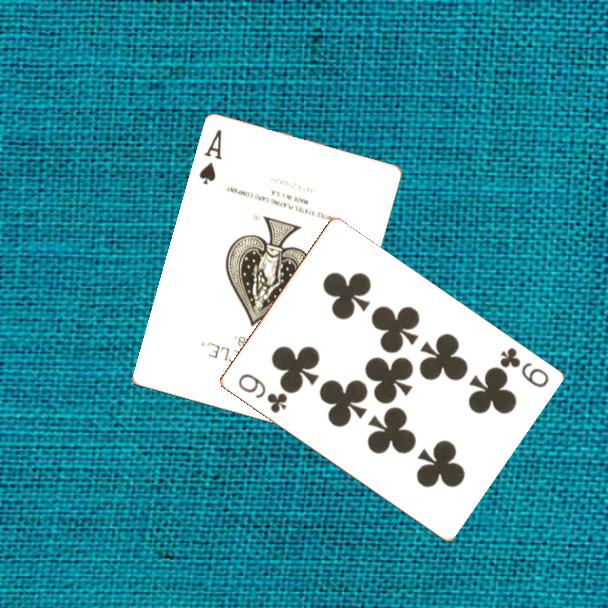c09: (496, 344, 551, 391), (234, 370, 290, 416)
s01: (196, 126, 225, 188)
